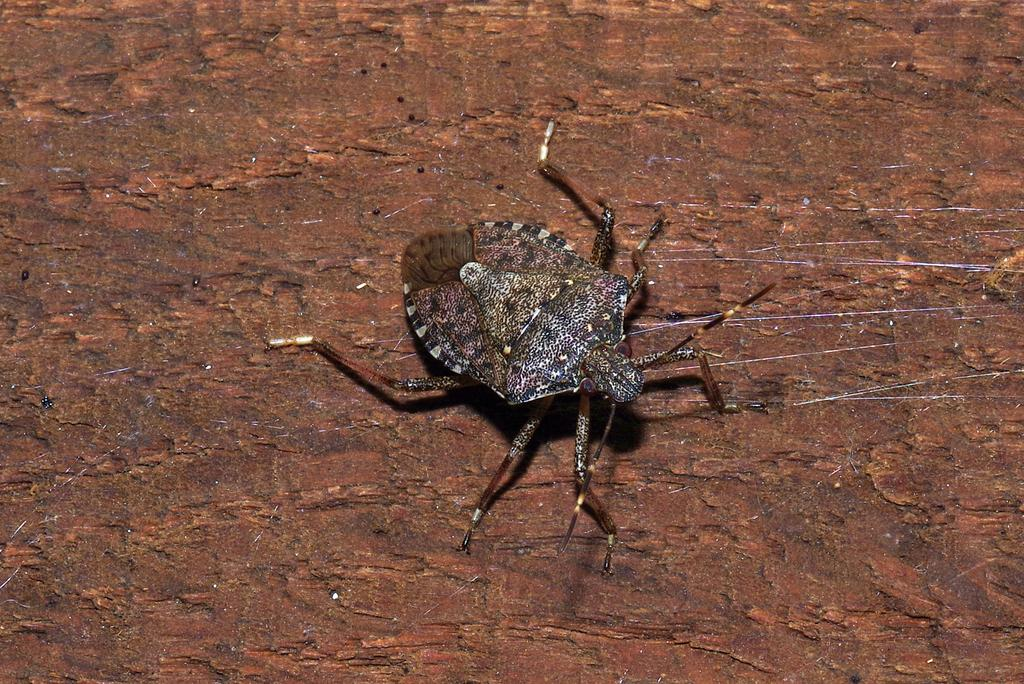stink_bugs: (232, 105, 802, 583)
